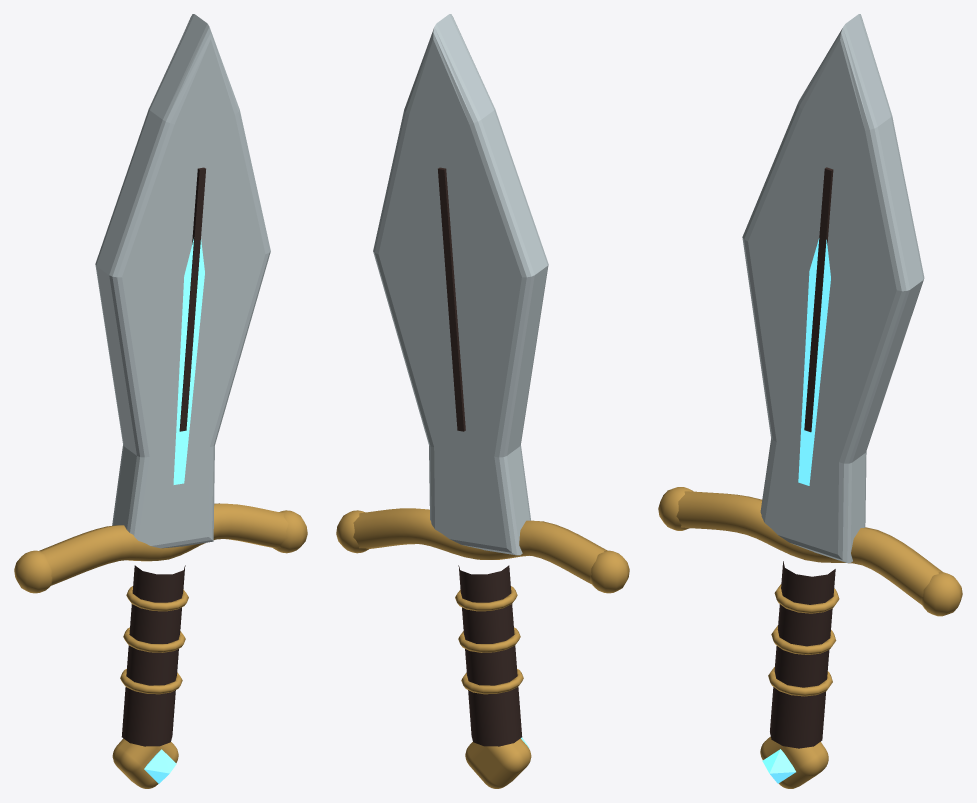
The model's file is weapon_leaf.glb.
The picture shows the model from 3 angles, left to right: view 1: azimuth 30°, elevation 25°; view 2: azimuth 150°, elevation 25°; view 3: azimuth 330°, elevation 25°; orthographic projection. The views are drawn at different scales.
Visible parts, largest first — view 1: blade_mesh, weapon_grip, weapon_guard, weapon_rune, weapon_fuller_1, weapon_pommel, weapon_guard_cap_-1, weapon_guard_cap_1, weapon_trim_wrap_0, weapon_trim_wrap_2, weapon_trim_wrap_1, weapon_rune_pommel; view 2: blade_mesh, weapon_grip, weapon_guard, weapon_fuller_-1, weapon_pommel, weapon_guard_cap_-1, weapon_guard_cap_1, weapon_trim_wrap_0, weapon_trim_wrap_2, weapon_trim_wrap_1; view 3: blade_mesh, weapon_grip, weapon_guard, weapon_rune, weapon_fuller_1, weapon_pommel, weapon_guard_cap_1, weapon_guard_cap_-1, weapon_trim_wrap_0, weapon_trim_wrap_2, weapon_trim_wrap_1, weapon_rune_pommel.
Boxes of the visible parts, <box> form: blade_mesh: <box>95,14,270,548</box>; weapon_grip: <box>121,565,185,746</box>; weapon_guard: <box>39,503,288,585</box>; weapon_rune: <box>173,239,204,484</box>; weapon_fuller_1: <box>179,167,205,431</box>; weapon_pommel: <box>112,738,178,788</box>; weapon_guard_cap_-1: <box>14,550,52,593</box>; weapon_guard_cap_1: <box>272,510,307,553</box>; weapon_trim_wrap_0: <box>126,586,188,611</box>; weapon_trim_wrap_2: <box>120,669,182,694</box>; weapon_trim_wrap_1: <box>123,627,185,652</box>; weapon_rune_pommel: <box>144,749,176,783</box>; blade_mesh: <box>373,14,548,555</box>; weapon_grip: <box>458,565,522,746</box>; weapon_guard: <box>353,508,607,584</box>; weapon_fuller_-1: <box>438,167,465,431</box>; weapon_pommel: <box>465,738,531,788</box>; weapon_guard_cap_-1: <box>590,550,629,593</box>; weapon_guard_cap_1: <box>336,510,368,553</box>; weapon_trim_wrap_0: <box>455,586,517,611</box>; weapon_trim_wrap_2: <box>461,669,523,694</box>; weapon_trim_wrap_1: <box>458,627,520,652</box>; blade_mesh: <box>742,14,924,563</box>; weapon_grip: <box>770,561,835,748</box>; weapon_guard: <box>676,491,942,604</box>; weapon_rune: <box>798,238,830,485</box>; weapon_fuller_1: <box>804,167,833,432</box>; weapon_pommel: <box>760,736,828,788</box>; weapon_guard_cap_1: <box>920,572,962,616</box>; weapon_guard_cap_-1: <box>658,487,693,530</box>; weapon_trim_wrap_0: <box>774,584,839,613</box>; weapon_trim_wrap_2: <box>768,667,832,696</box>; weapon_trim_wrap_1: <box>771,625,836,654</box>; weapon_rune_pommel: <box>762,749,795,783</box>.
Bounding box in the file's own units: 0.9609 × 2.4 × 0.2287.
